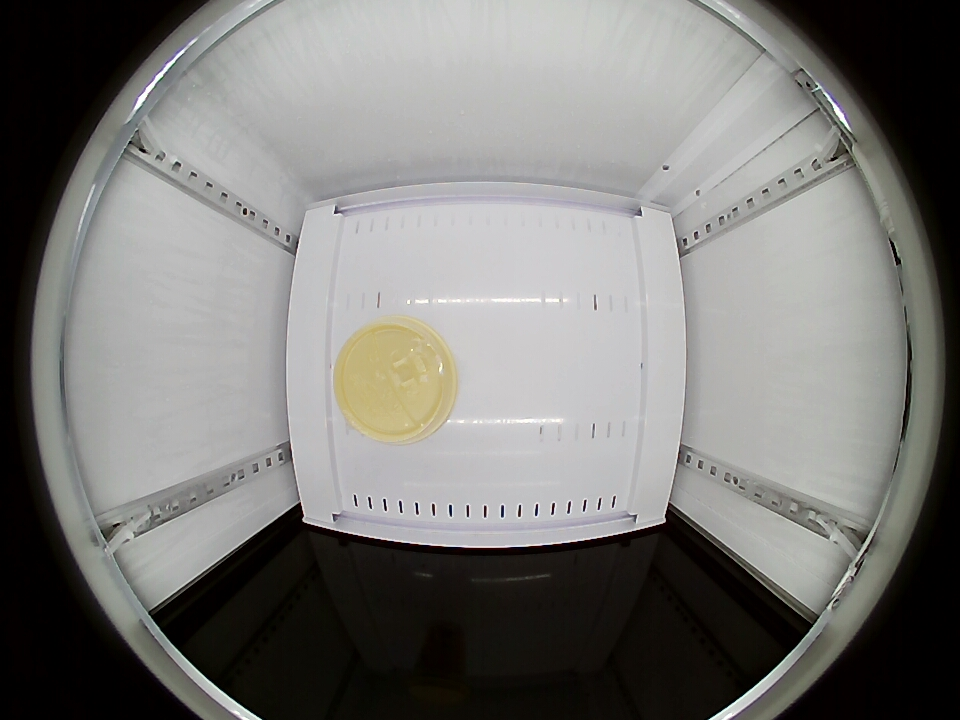youlemei: (334, 316, 457, 445)
